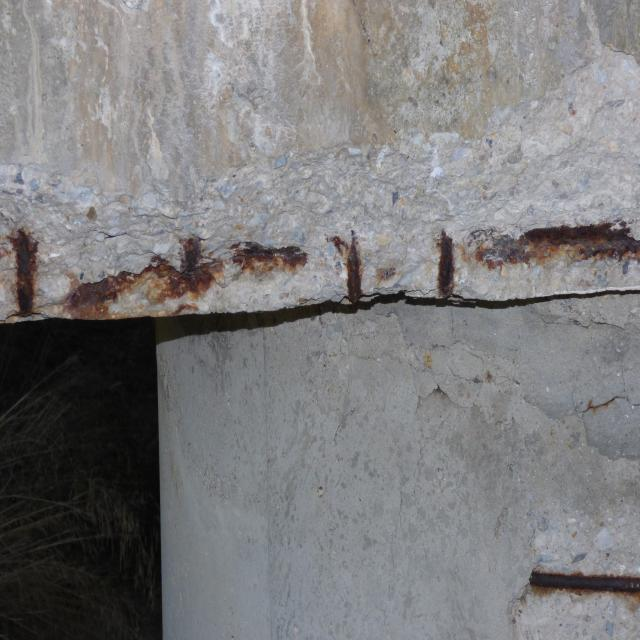corrosion: (0, 194, 640, 330), (465, 360, 640, 452), (515, 550, 640, 626)
